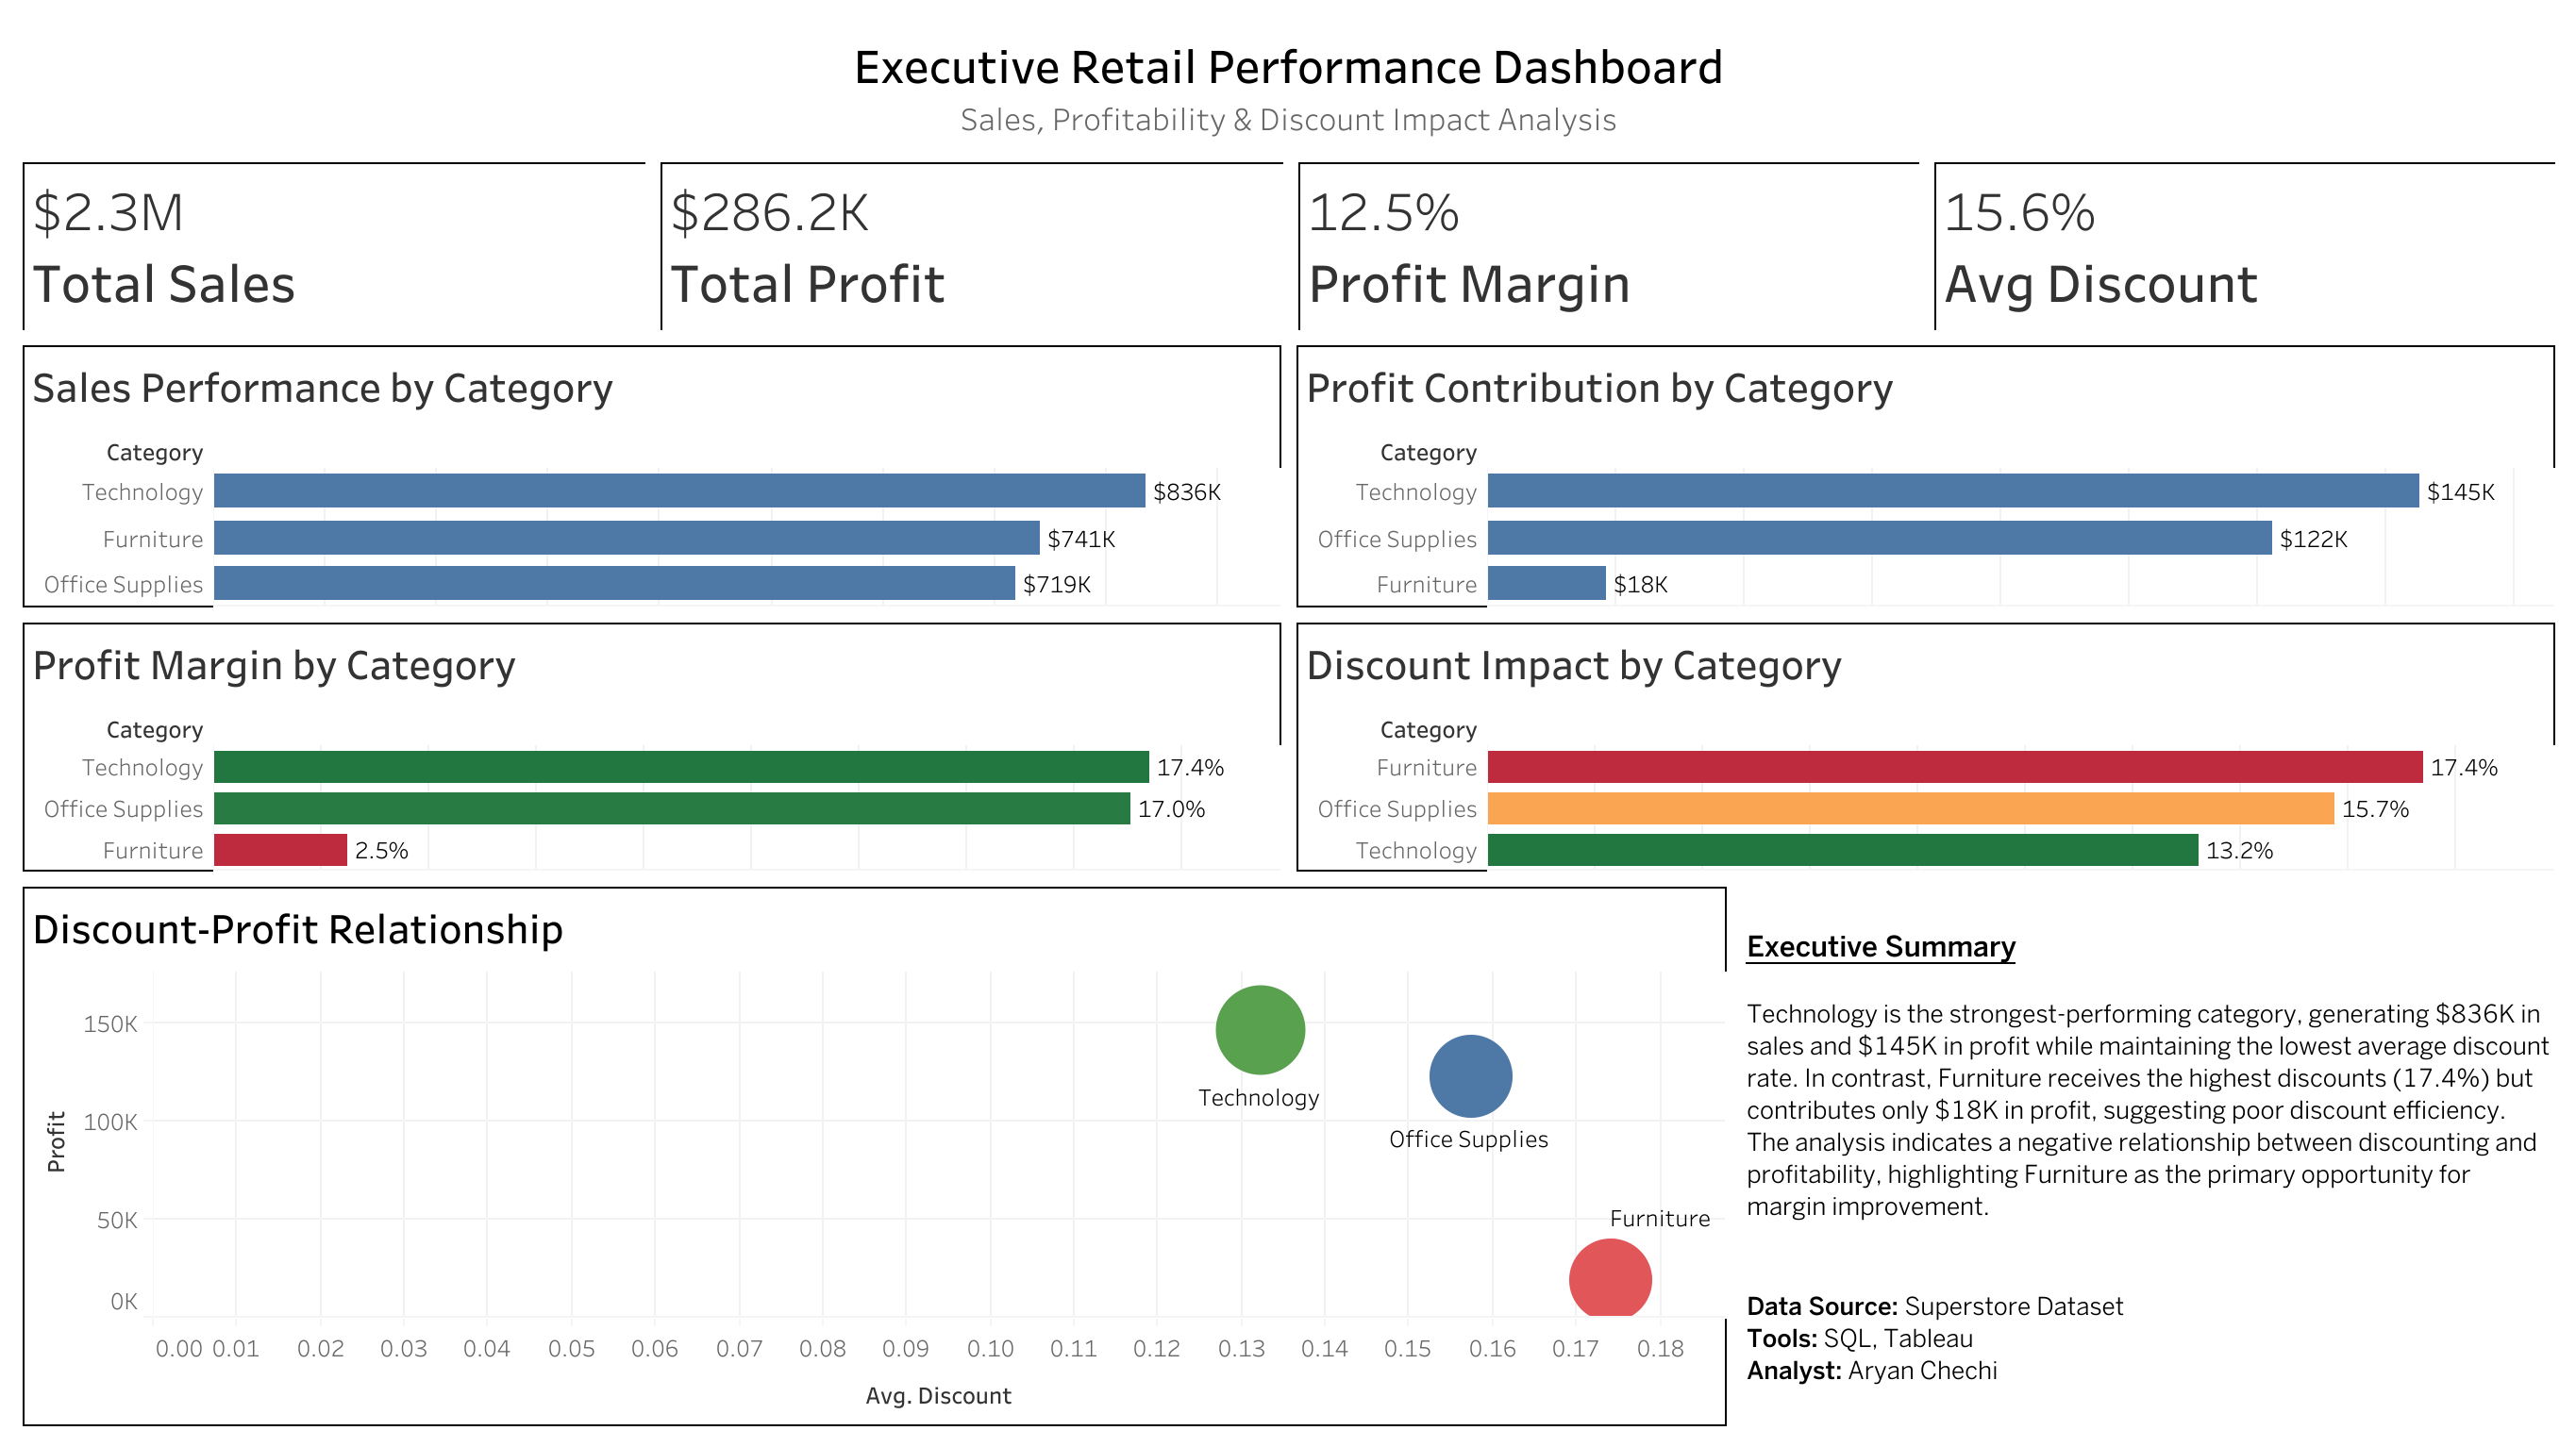

The dashboard page shown, as its layout file describes it:
{"tool":"tableau","page":{"name":"Executive Sales & Profitability Dashboard","canvas":[1366,768],"ordinal":1},"visuals":[{"type":"text","box":[8,8,1350,74]},{"type":"worksheet","title":"KPI - Total Sales","mark":"Automatic","box":[8,82,338,97]},{"type":"worksheet","title":"KPI - Total Profit","mark":"Automatic","box":[346,82,338,97]},{"type":"worksheet","title":"KPI - Profit Margin","mark":"Automatic","box":[684,82,337,97]},{"type":"worksheet","title":"KPI - Average Discount","mark":"Automatic","box":[1021,82,337,97]},{"type":"worksheet","title":"Category Performance","mark":"Automatic","rows":["Category"],"cols":["Sales"],"box":[8,179,675,147]},{"type":"worksheet","title":"Category Profitability","mark":"Automatic","rows":["Category"],"cols":["Profit"],"box":[683,179,675,147]},{"type":"worksheet","title":"Category Profit Margin","mark":"Automatic","rows":["Category"],"cols":["Calculation_2353651724660736"],"box":[8,326,675,140]},{"type":"worksheet","title":"Discount Impact by Category","mark":"Automatic","rows":["Category"],"cols":["Discount"],"box":[683,326,675,140]},{"type":"worksheet","title":"Discount vs Profit Analysis","mark":"Circle","rows":["Profit"],"cols":["Discount"],"box":[8,466,911,294]},{"type":"text","box":[919,466,439,294]}]}

Visuals, with their boxes in screenshot pixels (x1, y1, x2, y2), scaled from the page's 1366x768 canvas onto the 2576x1447 screenshot:
text: locate(15, 15, 2561, 155)
"KPI - Total Sales" worksheet: locate(15, 155, 652, 338)
"KPI - Total Profit" worksheet: locate(652, 155, 1290, 338)
"KPI - Profit Margin" worksheet: locate(1290, 155, 1926, 338)
"KPI - Average Discount" worksheet: locate(1926, 155, 2561, 338)
"Category Performance" worksheet: locate(15, 338, 1288, 614)
"Category Profitability" worksheet: locate(1288, 338, 2561, 614)
"Category Profit Margin" worksheet: locate(15, 614, 1288, 878)
"Discount Impact by Category" worksheet: locate(1288, 614, 2561, 878)
"Discount vs Profit Analysis" worksheet (Circle marks): locate(15, 878, 1733, 1432)
text: locate(1733, 878, 2561, 1432)
